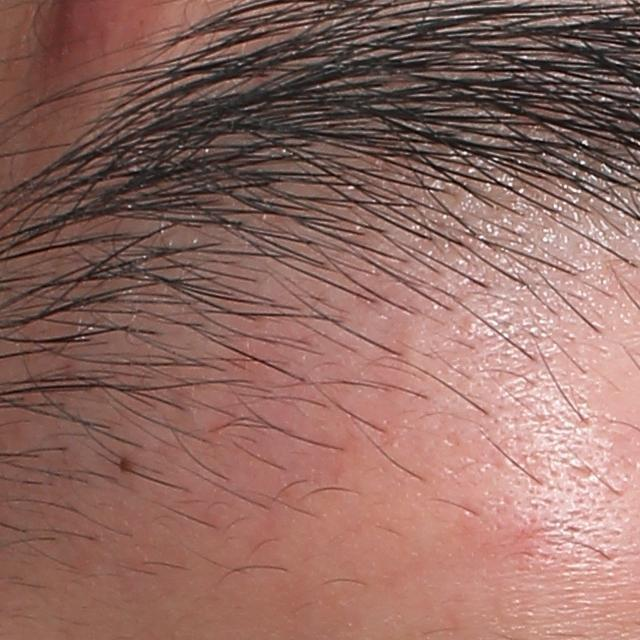nevus: (115, 453, 135, 480)
